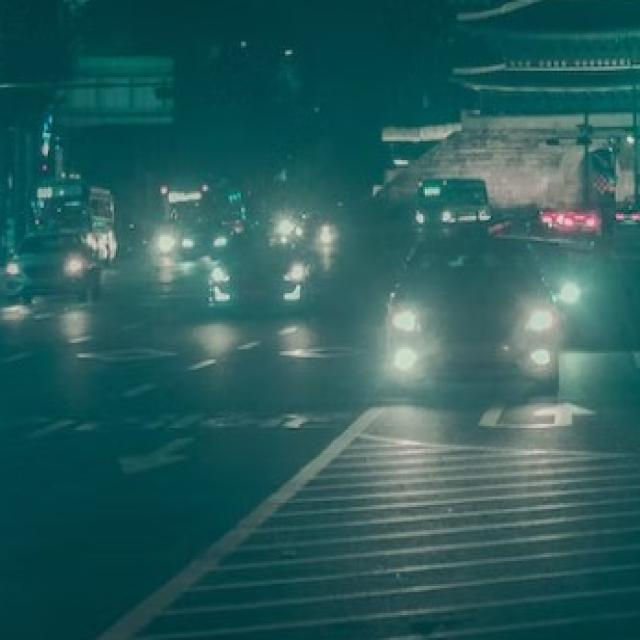bus: (31, 174, 119, 263), (157, 173, 253, 249), (412, 174, 492, 226)
car: (380, 235, 562, 397), (204, 234, 318, 316), (1, 226, 102, 306)
